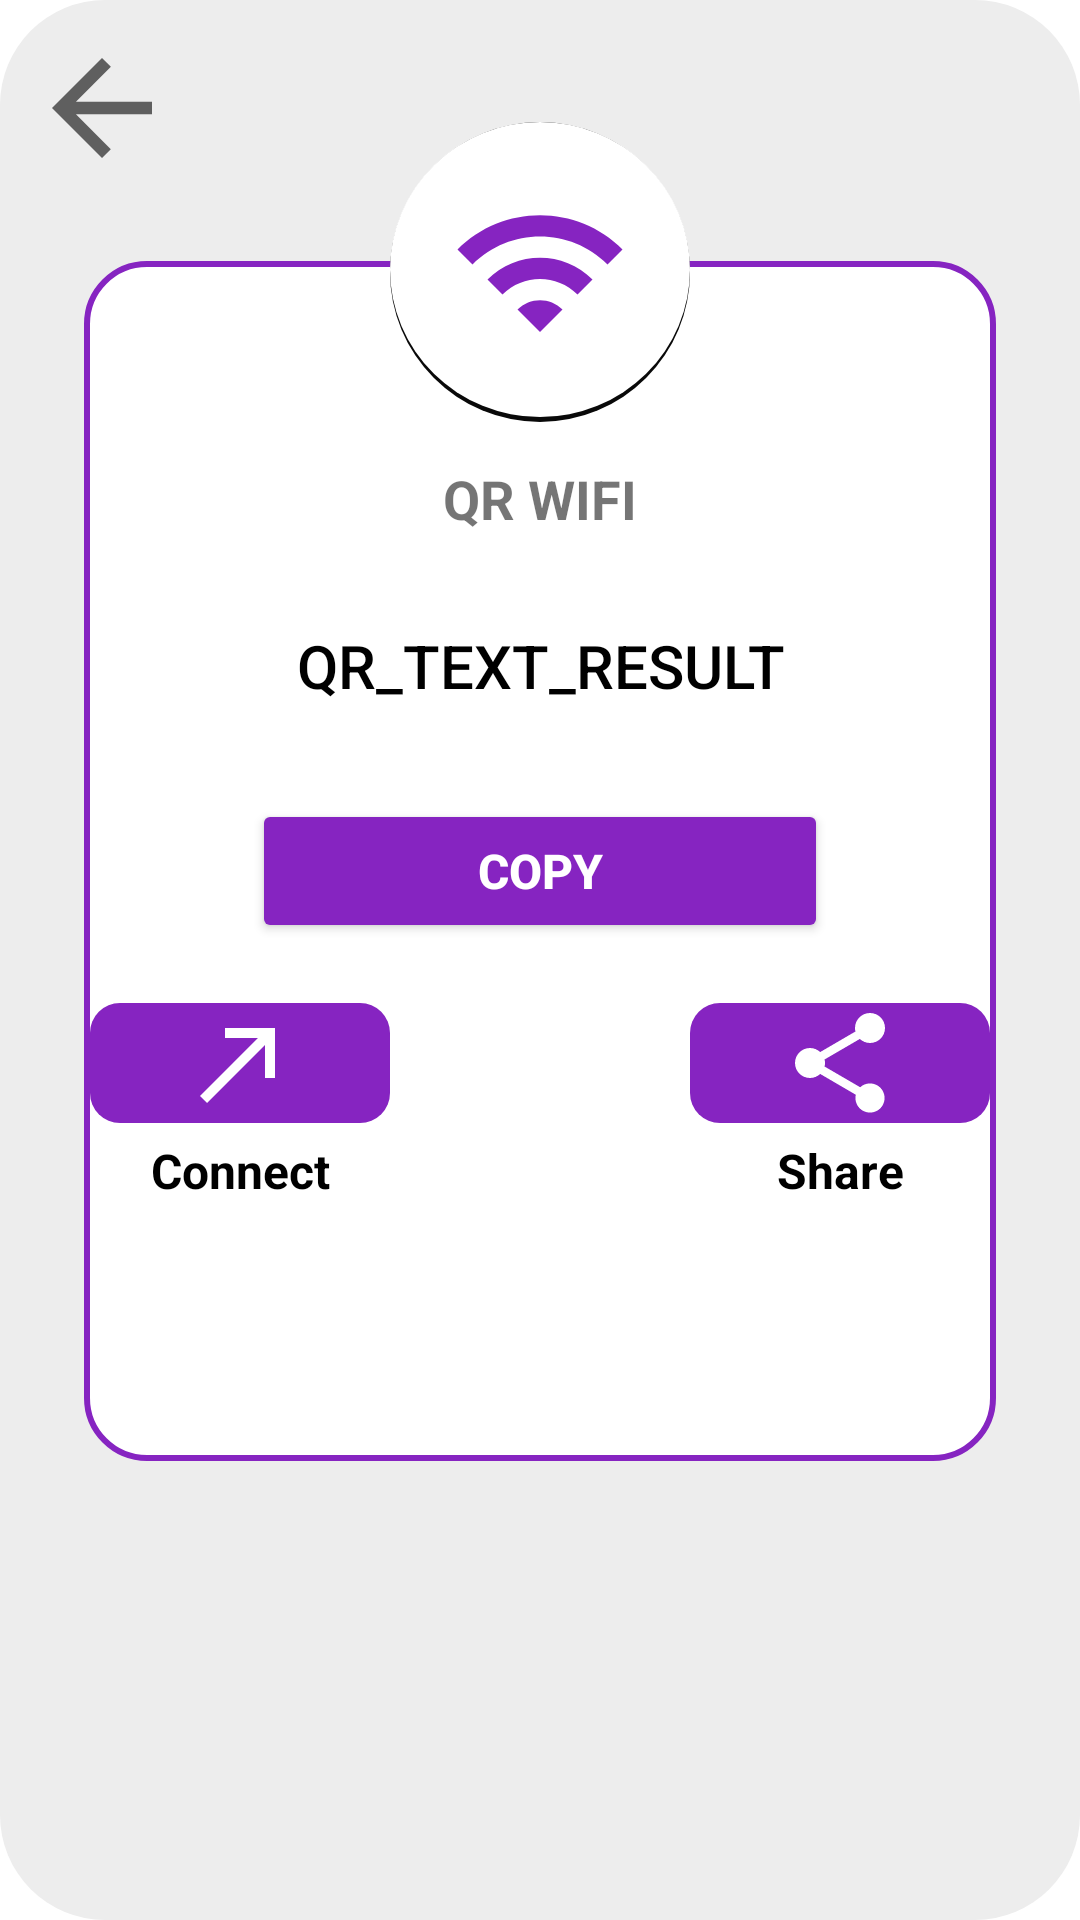

Named icons in this screenshot (1080*1920) and their bounding boxes, (x1, y1, x2, y2):
arrow back: (52, 58, 152, 158)
